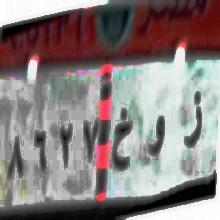2: (57, 117, 75, 172)
6: (31, 127, 47, 172)
7: (81, 111, 99, 166)
8: (4, 129, 24, 184)
khaa: (111, 104, 132, 178)
waw: (148, 109, 166, 168)
zay: (180, 86, 204, 157)
